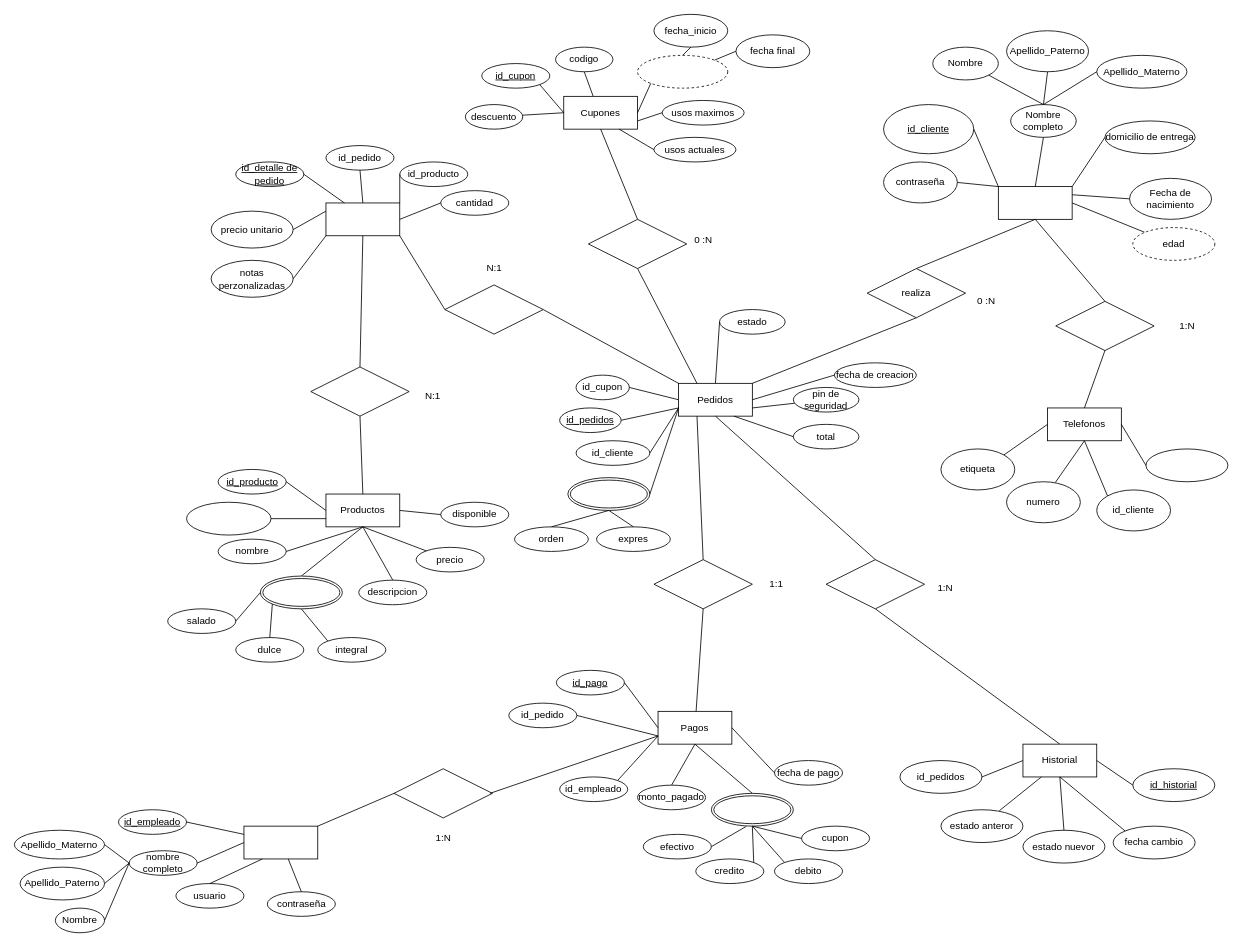
Image size: 1242x947. Some labels were removed from this diagram. The centre of each missing label's shape, as x and y in pixels:
aplica: (x=637, y=244)
Clientes: (x=1035, y=202)
contiene: (x=493, y=309)
detalle de pedidos: (x=362, y=219)
Empleados: (x=280, y=842)
fecha vencimiento: (x=682, y=71)
id_telefono: (x=1186, y=465)
incluye: (x=359, y=391)
liquida: (x=702, y=584)
lista de ingredientes: (x=228, y=518)
metodo de pago: (x=752, y=809)
procesa: (x=442, y=793)
rastrea: (x=875, y=584)
registra: (x=1104, y=326)
tipo: (x=301, y=592)
tipo_pedido: (x=608, y=493)
